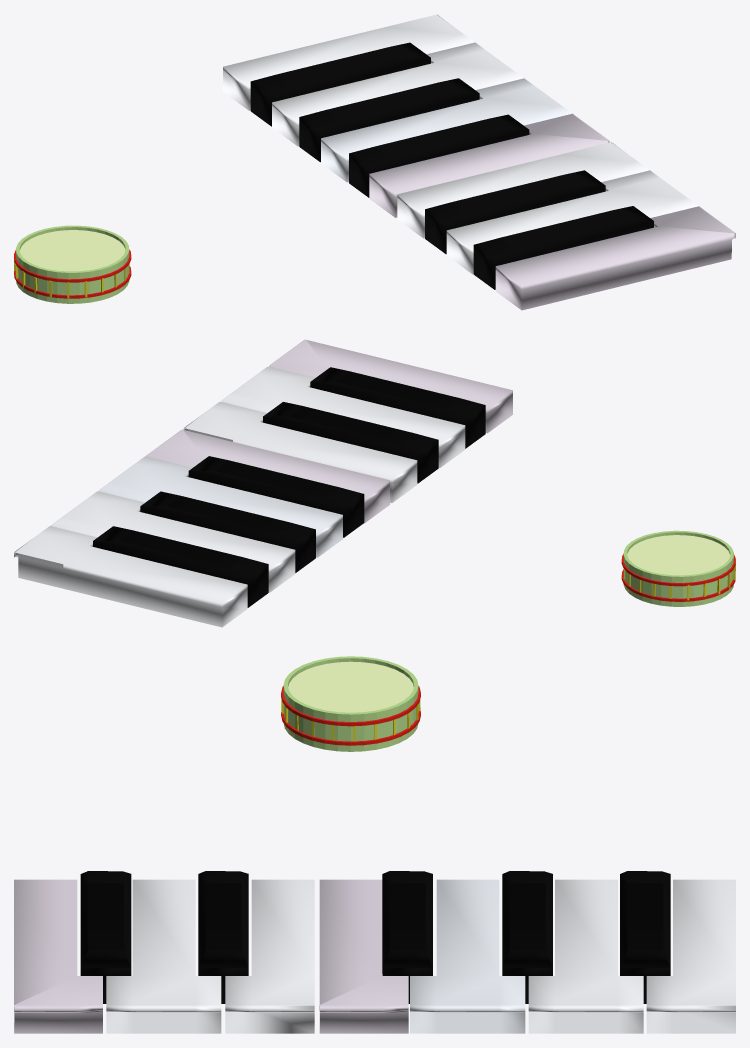
The model's file is TeclasBeat.fbx.
3 renders of one model, top to bottom at view 1: azimuth 30°, elevation 25°; view 2: azimuth 150°, elevation 25°; view 3: azimuth 270°, elevation 25°, orthographic. The views are drawn at different scales.
Parts seen in each view (by area): view 1: Cube.002, Cube.003, Cylinder, Cube.004, Cube.005, Cube, Cube.001, Cube.006, Cube.011, Cube.007, Cube.010, Cube.009 (+3 smaller); view 2: Cube.006, Cube.001, Cylinder, Cube, Cube.004, Cube.005, Cube.002, Cube.003, Cube.008, Cube.010, Cube.009, Cube.007 (+3 smaller); view 3: Cube, Cube.004, Cube.005, Cube.001, Cube.003, Cube.002, Cube.006, Cylinder, Cube.011, Cube.010, Cube.007, Cube.009 (+3 smaller).
Part boxes in pixels (left/top/right/bottom): Cube.002: left=495, top=206, right=735, bottom=310; Cube.003: left=369, top=113, right=609, bottom=217; Cylinder: left=16, top=225, right=129, bottom=303; Cube.004: left=321, top=78, right=571, bottom=182; Cube.005: left=272, top=42, right=522, bottom=146; Cube: left=446, top=170, right=697, bottom=274; Cube.001: left=397, top=142, right=648, bottom=238; Cube.006: left=223, top=14, right=473, bottom=110; Cube.011: left=473, top=206, right=653, bottom=289; Cube.007: left=299, top=78, right=479, bottom=162; Cube.010: left=425, top=170, right=605, bottom=254; Cube.009: left=250, top=42, right=430, bottom=126; Cube.006: left=14, top=526, right=247, bottom=627; Cube.001: left=183, top=402, right=417, bottom=503; Cylinder: left=623, top=530, right=733, bottom=606; Cube: left=221, top=366, right=465, bottom=467; Cube.004: left=99, top=456, right=342, bottom=557; Cube.005: left=51, top=491, right=295, bottom=592; Cube.002: left=269, top=339, right=512, bottom=433; Cube.003: left=146, top=429, right=389, bottom=523; Cube.008: left=188, top=456, right=364, bottom=537; Cube.010: left=263, top=402, right=438, bottom=483; Cube.009: left=93, top=526, right=268, bottom=607; Cube.007: left=140, top=491, right=315, bottom=572; Cube: left=106, top=879, right=221, bottom=1033; Cube.004: left=410, top=879, right=525, bottom=1033; Cube.005: left=528, top=879, right=643, bottom=1033; Cube.001: left=225, top=879, right=314, bottom=1033; Cube.003: left=319, top=879, right=408, bottom=1033; Cube.002: left=14, top=879, right=102, bottom=1033; Cube.006: left=646, top=879, right=735, bottom=1033; Cylinder: left=283, top=656, right=418, bottom=751; Cube.011: left=80, top=871, right=131, bottom=1003; Cube.010: left=198, top=871, right=248, bottom=1003; Cube.007: left=502, top=871, right=552, bottom=1003; Cube.009: left=620, top=871, right=670, bottom=1003.
Bounding box in the file's own units: 1474 × 85.17 × 1327.
